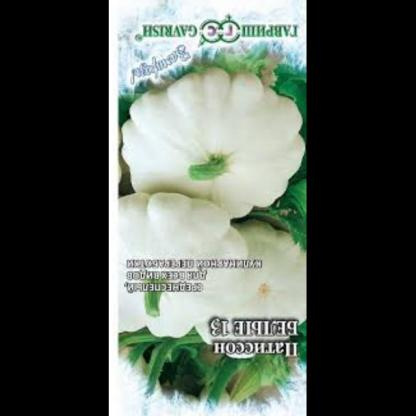squash-patisson: (122, 65, 308, 229), (109, 200, 250, 350), (188, 224, 307, 370)
